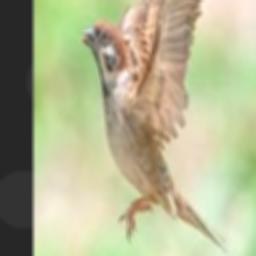Sparrow: (79, 0, 229, 251)
